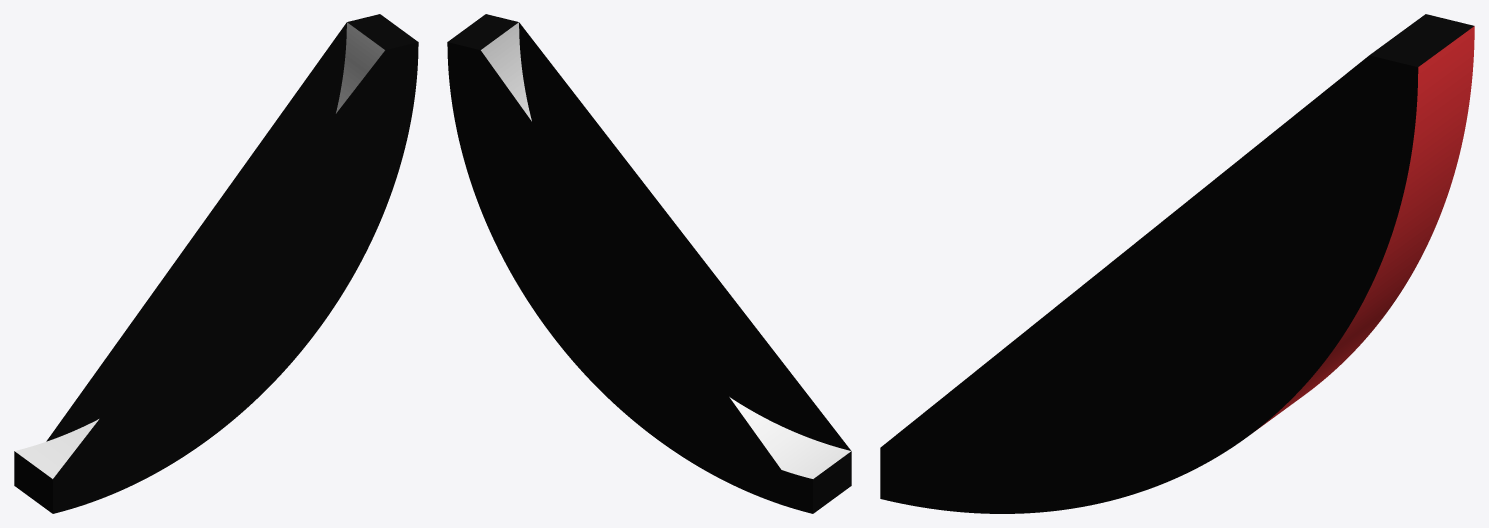
3 views of the same model, side by side, from view 1: azimuth 30°, elevation 25°; view 2: azimuth 150°, elevation 25°; view 3: azimuth 330°, elevation 25° (orthographic). The views are drawn at different scales.
Visible parts, largest first — view 1: UP_2; view 2: UP_2; view 3: UP_2.
Part boxes in pixels (x1,y1,x2,y2): UP_2: [14, 14, 418, 513]; UP_2: [447, 14, 851, 513]; UP_2: [880, 14, 1474, 513].
Size of the model in its own units: 1100 by 1100 by 200.
